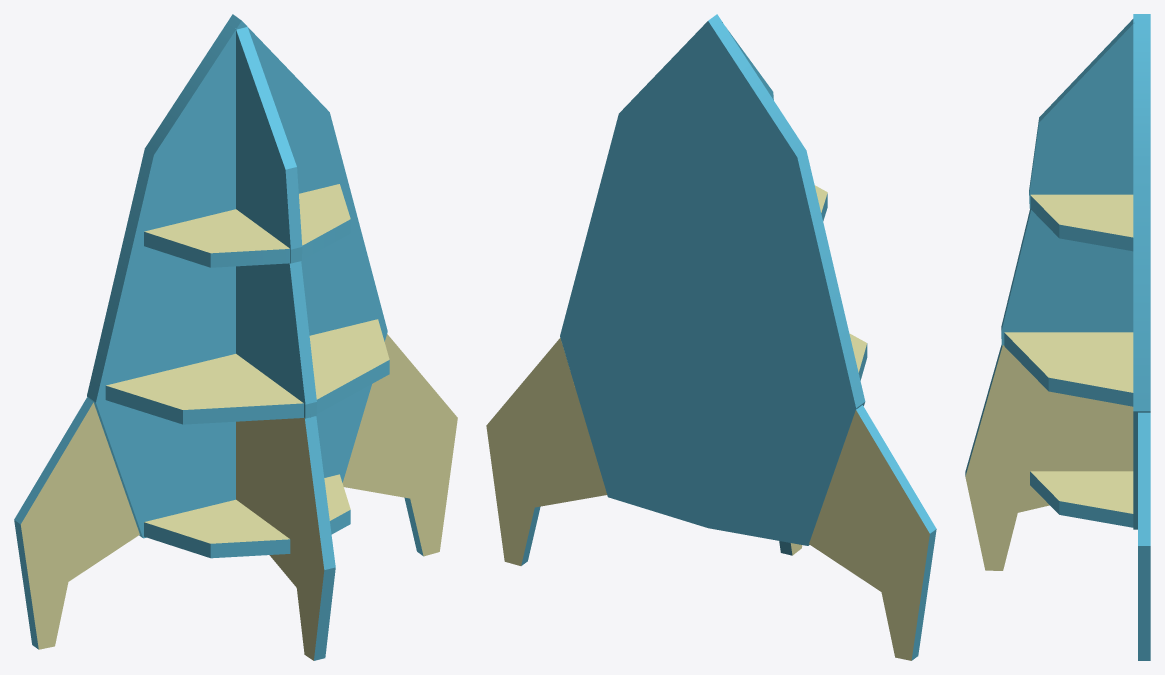
The model's file is Rack.fbx.
3 views of the same model, side by side, from view 1: azimuth 30°, elevation 25°; view 2: azimuth 150°, elevation 25°; view 3: azimuth 270°, elevation 25° (orthographic). The views are drawn at different scales.
Parts seen in each view (by area): view 1: Rack; view 2: Rack; view 3: Rack.
Part boxes in pixels (x1,y1,x2,y2): Rack: [14, 14, 457, 660]; Rack: [486, 14, 936, 660]; Rack: [965, 14, 1150, 660].
Size of the model in its own units: 3.49 by 4.45 by 1.35.
